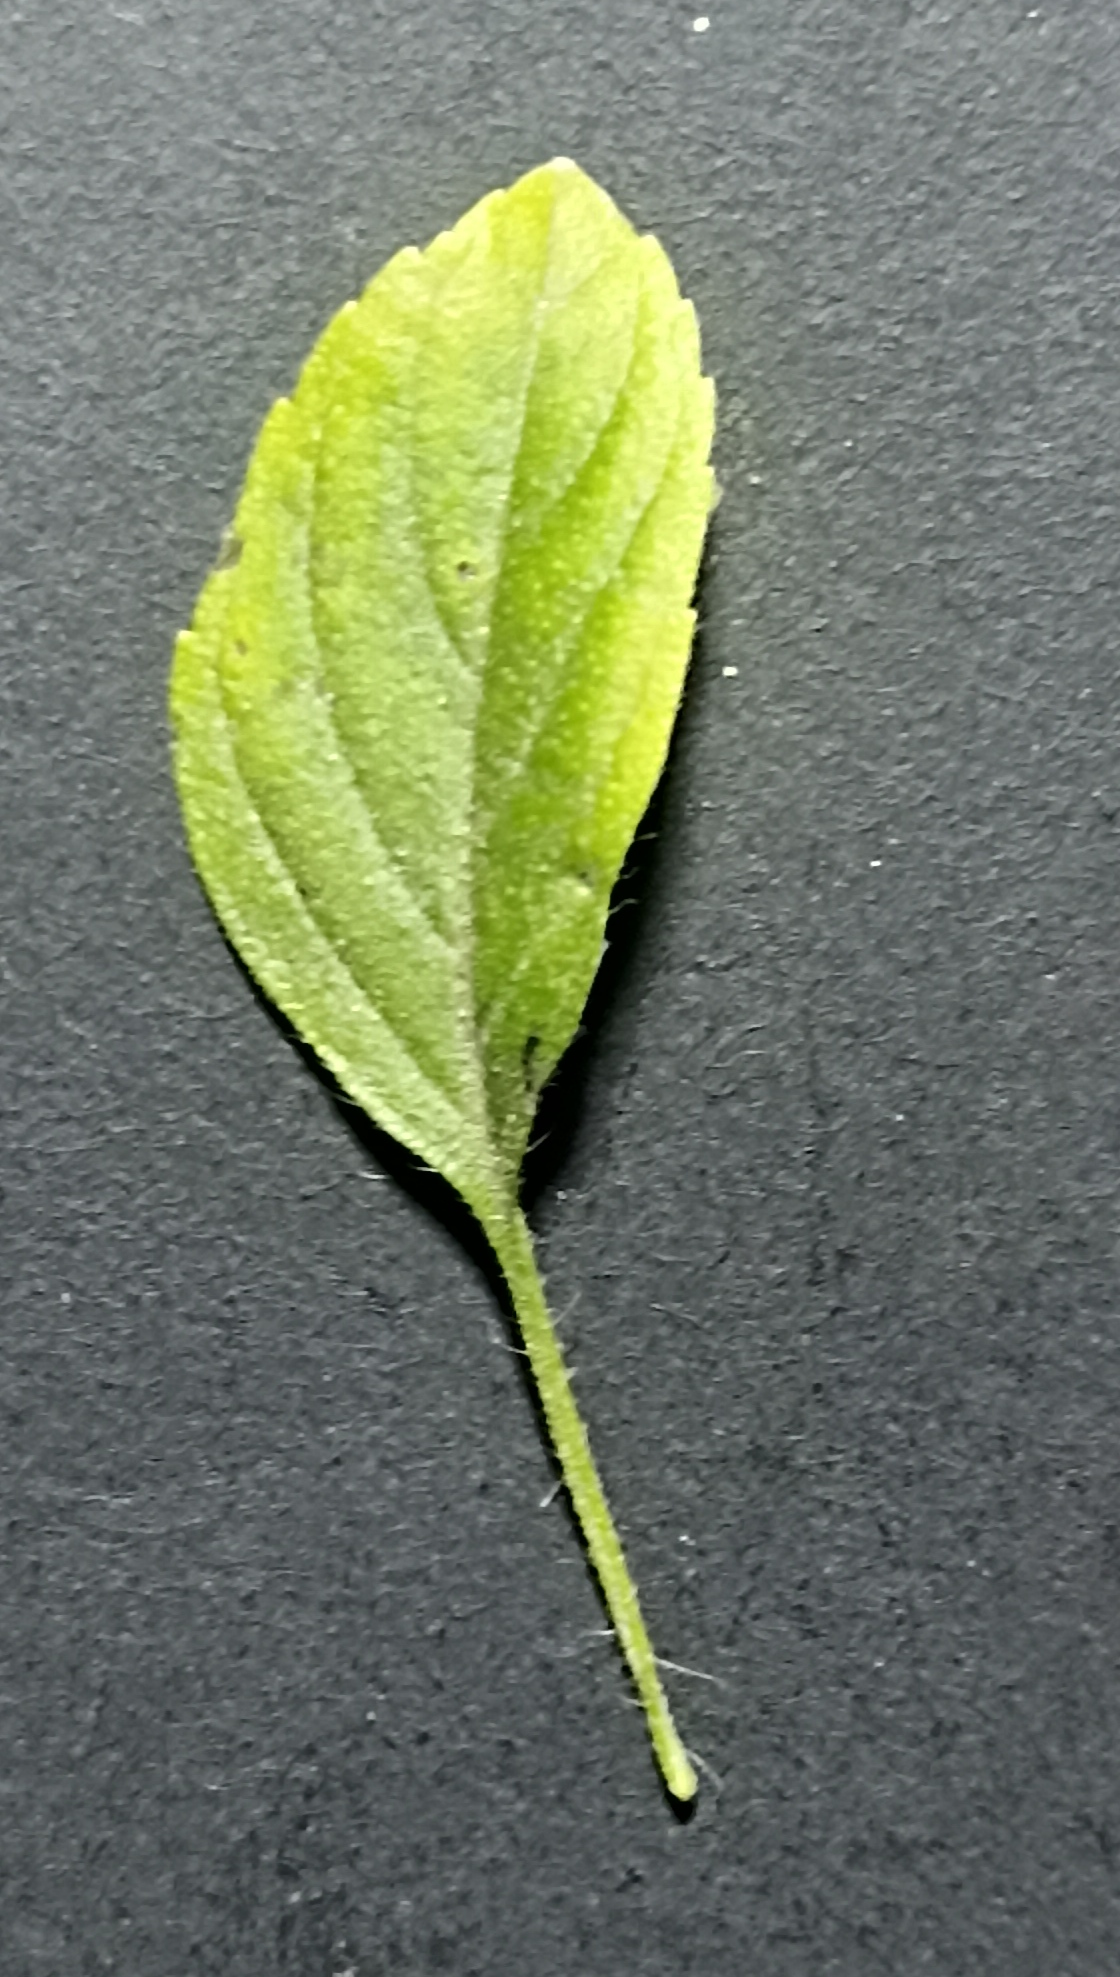Healthy: (149, 136, 724, 1227)
